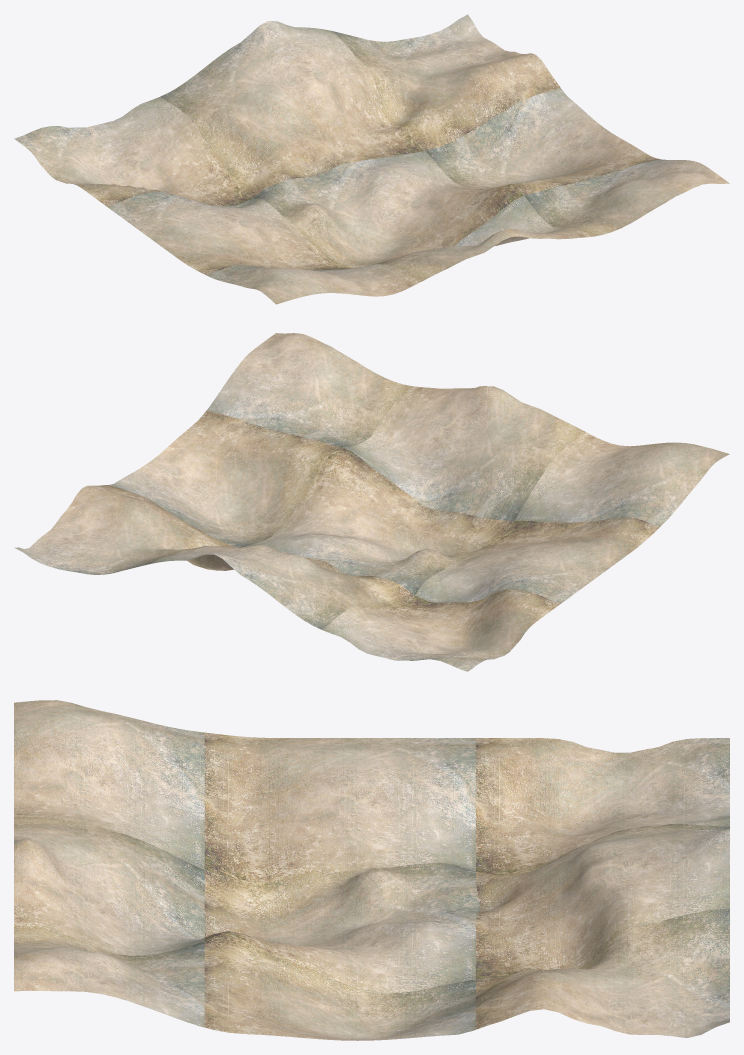
The model's file is Dunes.fbx.
3 views of the same model, one above another, from view 1: azimuth 30°, elevation 25°; view 2: azimuth 150°, elevation 25°; view 3: azimuth 270°, elevation 25° (orthographic). The views are drawn at different scales.
Parts seen in each view (by area): view 1: Terrain; view 2: Terrain; view 3: Terrain.
Part boxes in pixels (x1,y1,x2,y2): Terrain: [14, 14, 729, 304]; Terrain: [14, 333, 729, 671]; Terrain: [14, 700, 729, 1040].
Size of what is drawn, in the model's own units: 12600 by 2752 by 12600.
1 material, 1 textured.
